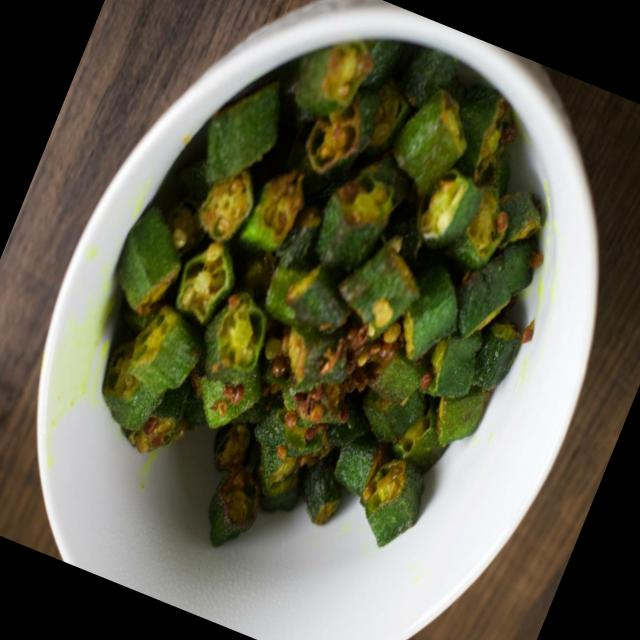BhindiMasala: (29, 0, 616, 634)
